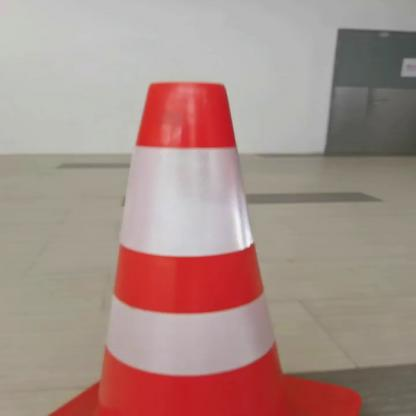cone: (43, 73, 383, 415)
